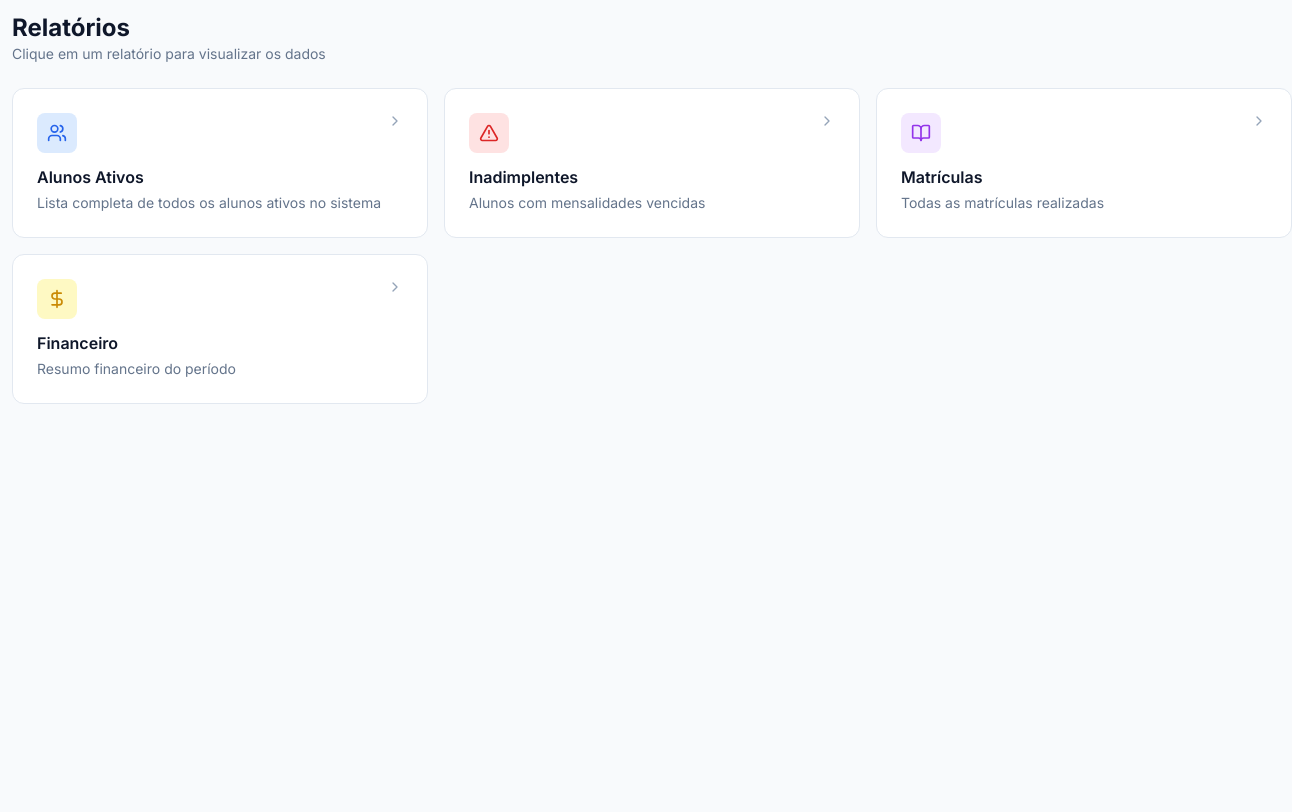
Test: Reports › carrega o relatório Financeiro e exibe o resumo retornado pela API
Click the heading "Financeiro" at (78, 343), box [37,333,118,353]
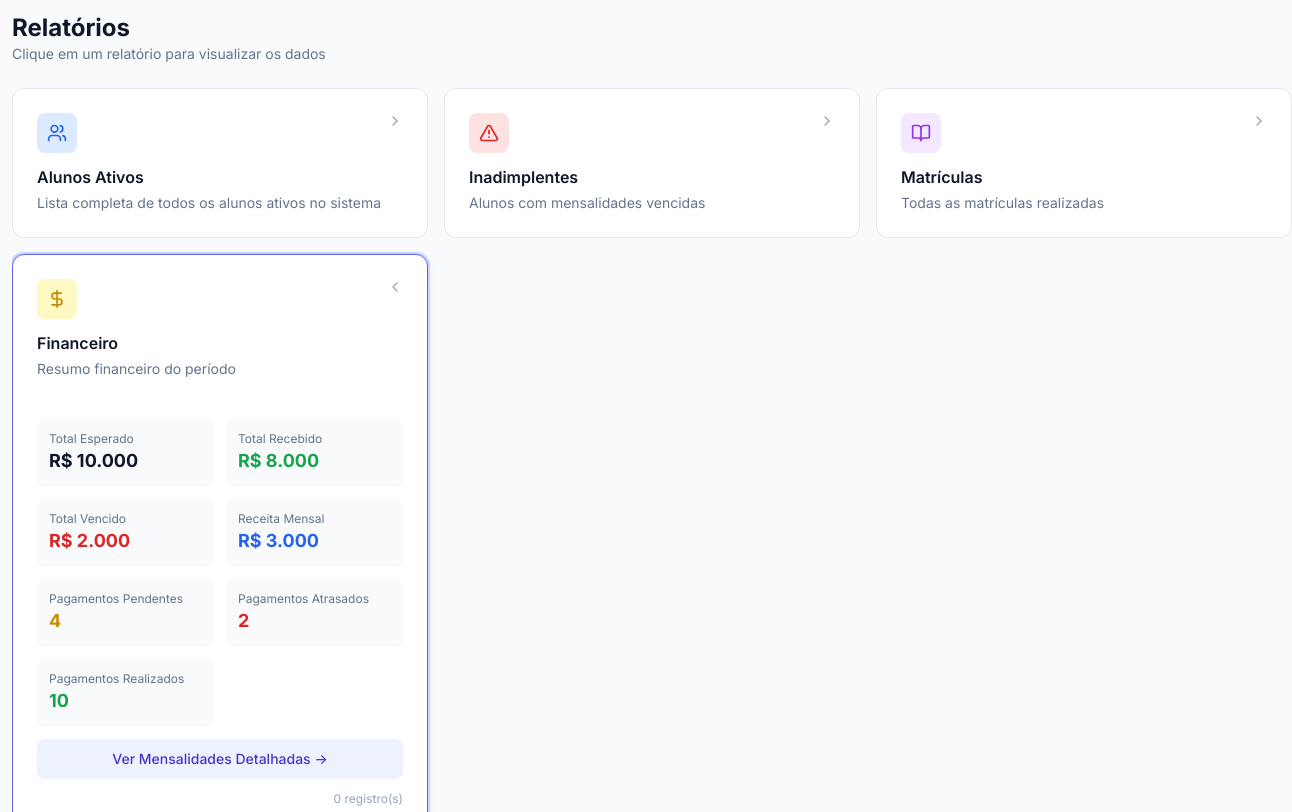
Expected: the text "Total Esperado" is shown, [49,431,134,446]
Expected: the text "R$ 10.000" is shown, [49,450,138,471]
